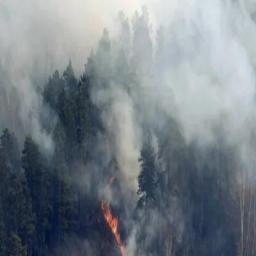Heavy smoke: (101, 4, 256, 154), (0, 0, 89, 147)
Medium fire: (100, 162, 132, 256)
